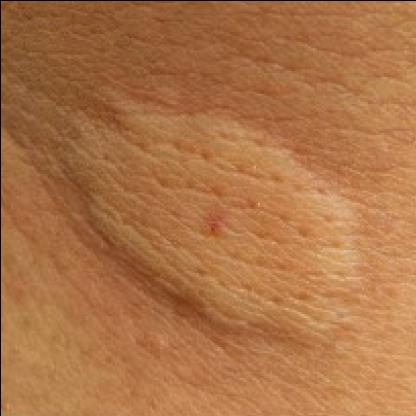Wasp: (69, 98, 363, 354)
